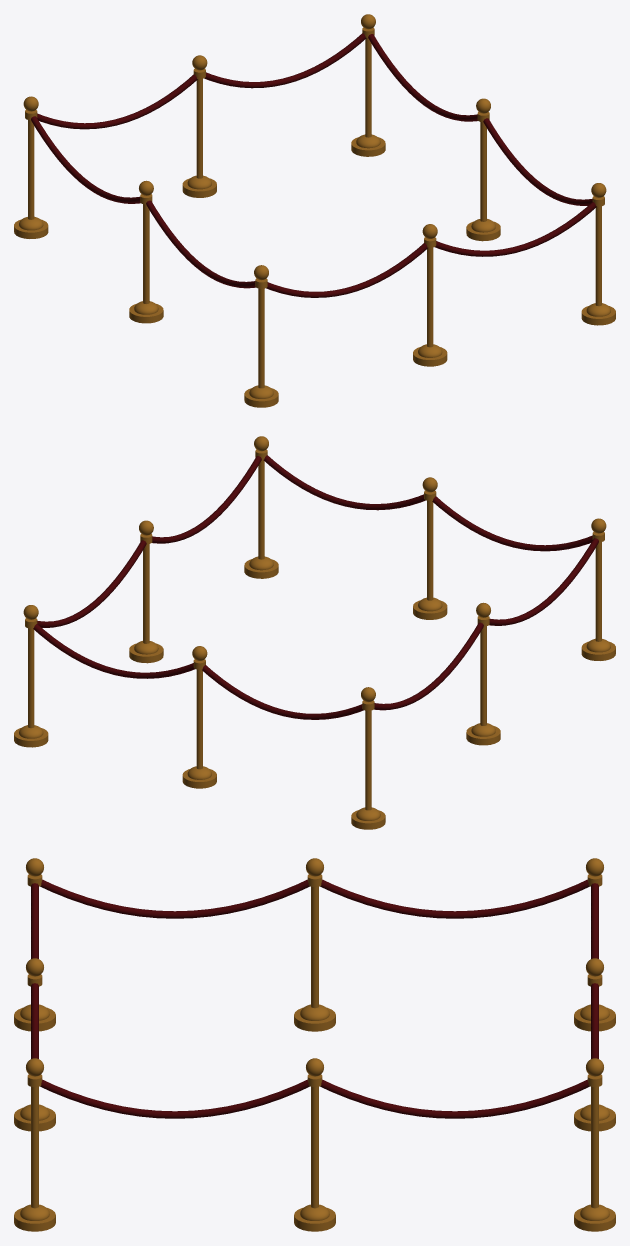
The model's file is Rail_NaturalHistory_Skeleton.fbx.
3 views of the same model, one above another, from view 1: azimuth 30°, elevation 25°; view 2: azimuth 150°, elevation 25°; view 3: azimuth 270°, elevation 25° (orthographic). The views are drawn at different scales.
Visible parts, largest first — view 1: M_Barrier_Brass, M_Barrier_RedVelvet; view 2: M_Barrier_Brass, M_Barrier_RedVelvet; view 3: M_Barrier_Brass, M_Barrier_RedVelvet.
Boxes of the visible parts, x1,y1,x2,y2 form: M_Barrier_Brass: [14, 14, 615, 407]; M_Barrier_RedVelvet: [31, 33, 596, 297]; M_Barrier_Brass: [14, 436, 615, 829]; M_Barrier_RedVelvet: [33, 455, 598, 719]; M_Barrier_Brass: [14, 858, 615, 1231]; M_Barrier_RedVelvet: [31, 879, 598, 1118].
Bounding box in the file's own units: 294 × 103 × 344.
